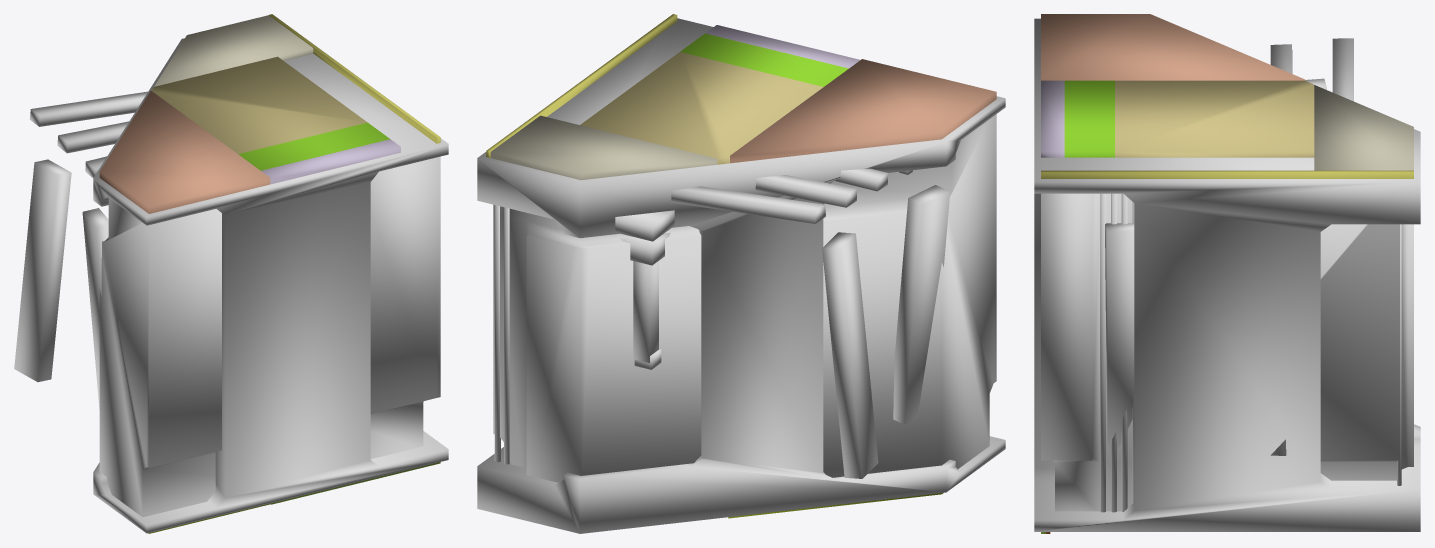
Rendered from website_room_impact.glb.
3 renders of one model, left to right at view 1: azimuth 30°, elevation 25°; view 2: azimuth 150°, elevation 25°; view 3: azimuth 270°, elevation 25°, orthographic. The views are drawn at different scales.
Visible parts, largest first — view 1: geo1; view 2: geo1; view 3: geo1.
Boxes of the visible parts, x1=… form: geo1: x1=14, y1=14, x2=448, y2=533; geo1: x1=477, y1=14, x2=1005, y2=533; geo1: x1=1034, y1=14, x2=1420, y2=533.
Size of the model in its own units: 1.05 by 1.07 by 1.04.
